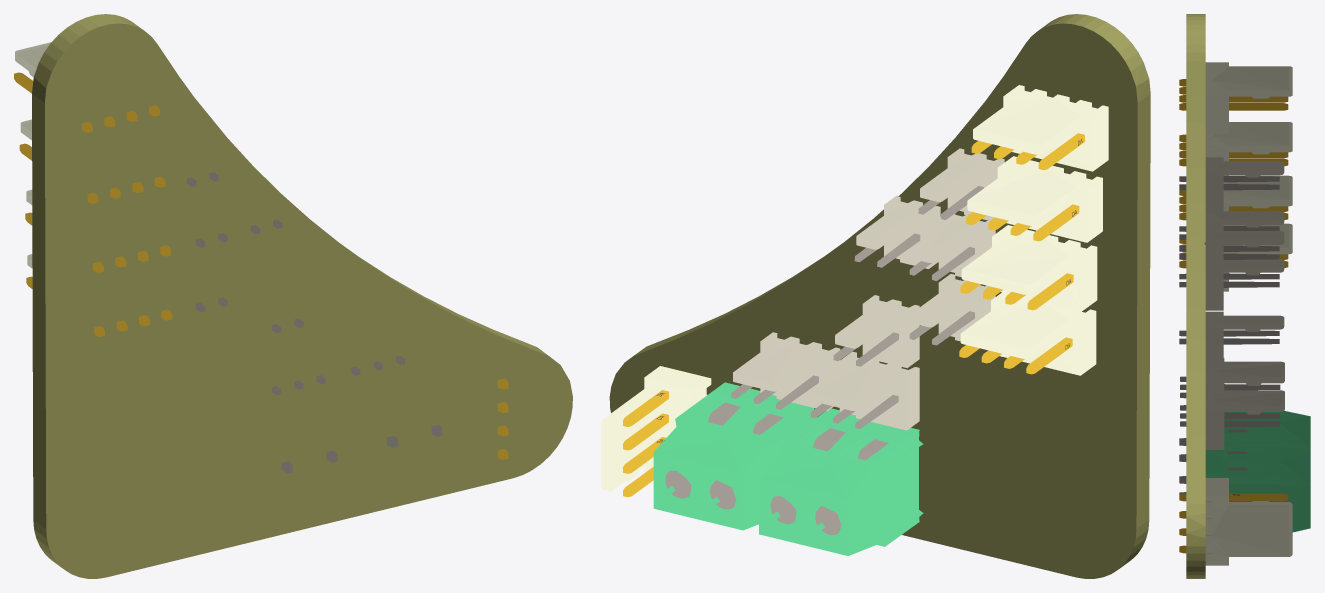
The model's file is OBJ_PCB_FabVine.obj.
3 views of the same model, side by side, from view 1: azimuth 30°, elevation 25°; view 2: azimuth 150°, elevation 25°; view 3: azimuth 270°, elevation 25° (orthographic). The views are drawn at different scales.
Bounding box in the file's own units: 236 × 236 × 68.9.
